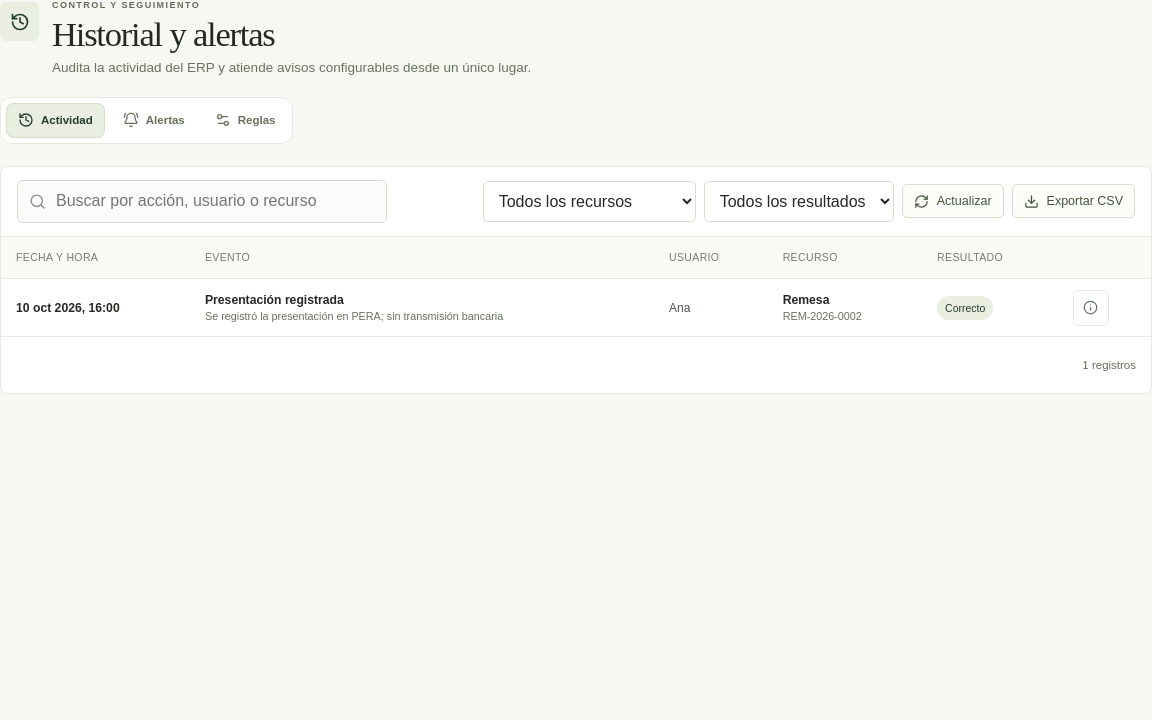
it: shows the actor and remittance number without claiming a bank transmission
Expected: the table named "Historial de actividad" shows "Presentación registrada", x1=205 y1=293 x2=344 y2=307
Expected: the table named "Historial de actividad" shows "sin transmisión bancaria", x1=205 y1=310 x2=503 y2=322
Click the button named "Más información técnica" at (1091, 308), box x1=1073 y1=290 x2=1109 y2=326
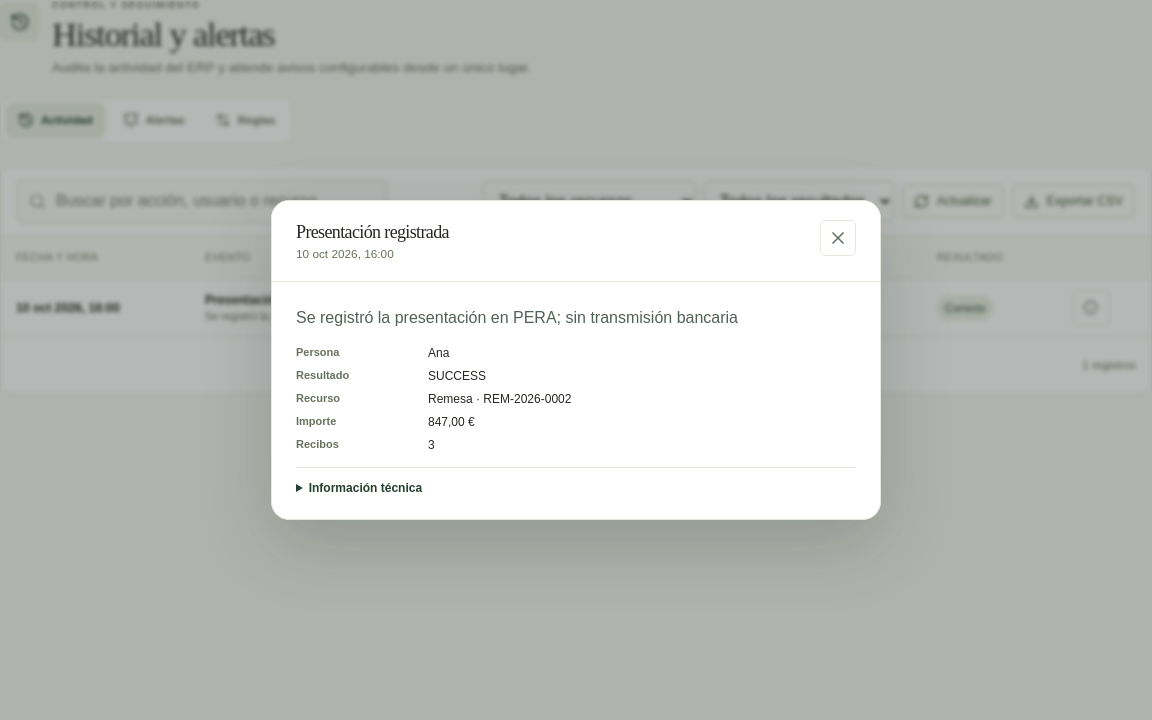
Expected: the dialog shows "847,00", x1=428 y1=415 x2=475 y2=429
